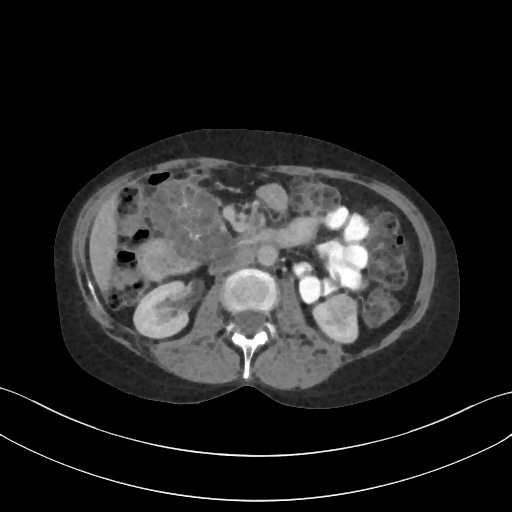Lesion: (324, 294, 358, 318)
